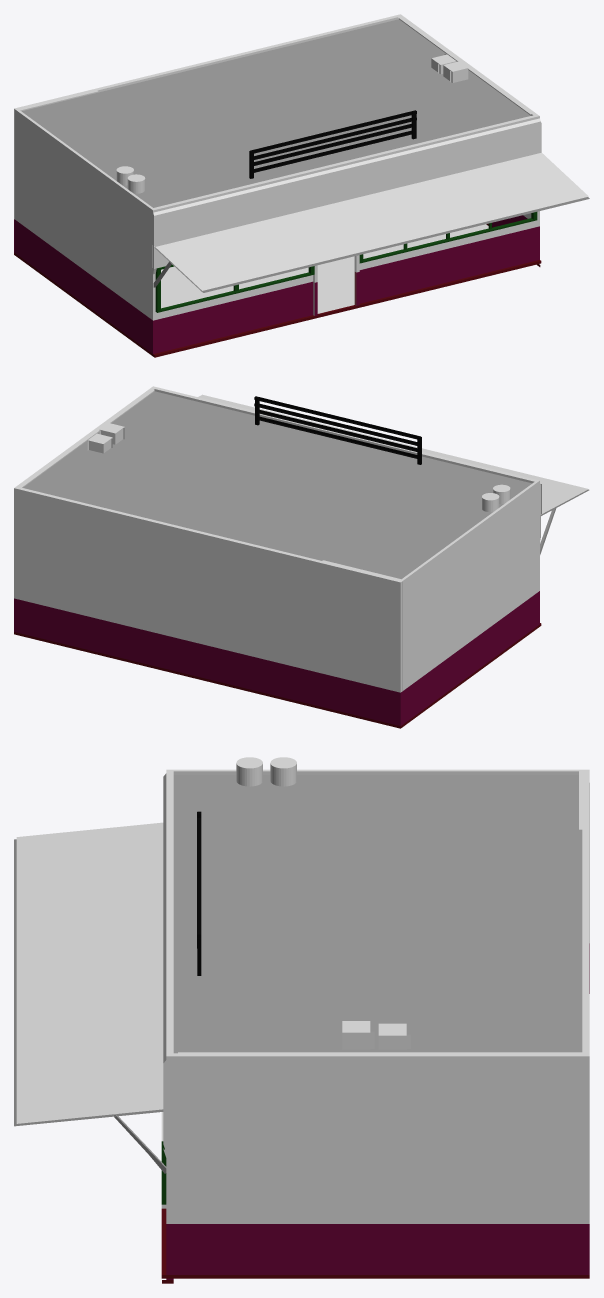
Rendered from supermercato_fixed_normals.fbx.
3 views of the same model, one above another, from view 1: azimuth 30°, elevation 25°; view 2: azimuth 150°, elevation 25°; view 3: azimuth 270°, elevation 25° (orthographic). The views are drawn at different scales.
Parts seen in each view (by area): view 1: sottotetto; view 2: sottotetto; view 3: sottotetto.
Part boxes in pixels (bbox=[...]): sottotetto: bbox=[14, 14, 589, 357]; sottotetto: bbox=[14, 386, 589, 728]; sottotetto: bbox=[14, 757, 589, 1283].
Size of the model in its own units: 572 by 247 by 485.
